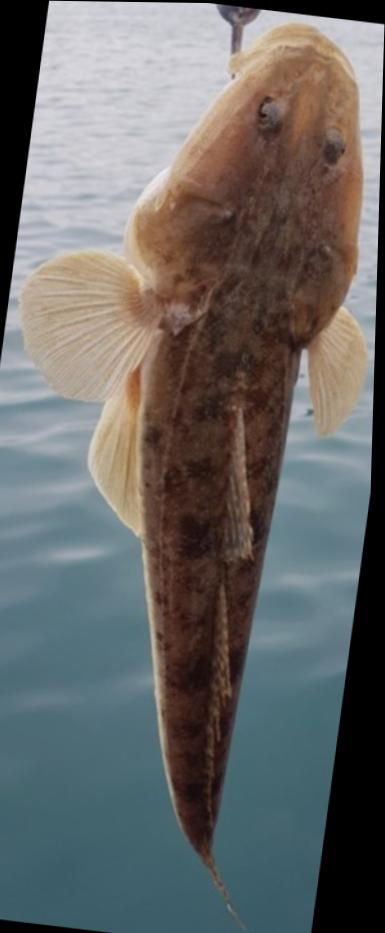fish: (19, 22, 370, 929)
